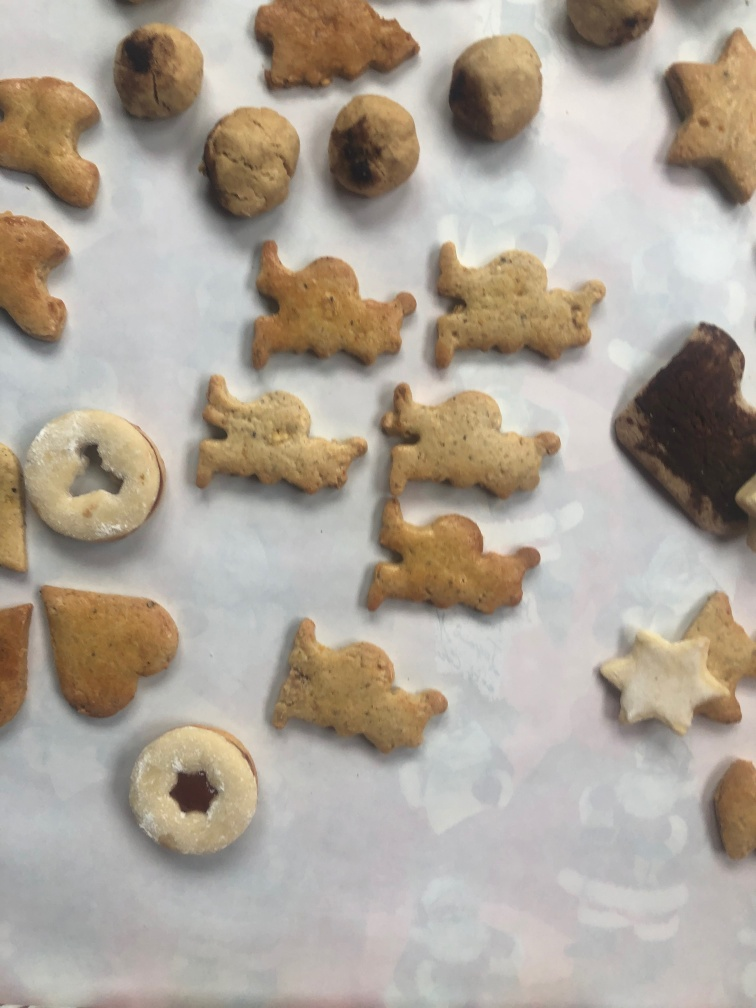christmas shortbread with jam: (19, 404, 163, 546), (125, 718, 265, 861)
heart: (33, 579, 179, 730)
lamb: (1, 69, 120, 217), (5, 204, 74, 355)
santa claus: (263, 609, 460, 777), (424, 235, 608, 385), (374, 378, 575, 511), (239, 239, 420, 384), (358, 495, 544, 635)
snowball: (198, 103, 302, 221), (446, 32, 543, 155), (324, 89, 420, 205), (113, 23, 208, 124)
star: (659, 18, 756, 204), (592, 616, 727, 739)
weird #1: (607, 317, 755, 552)
